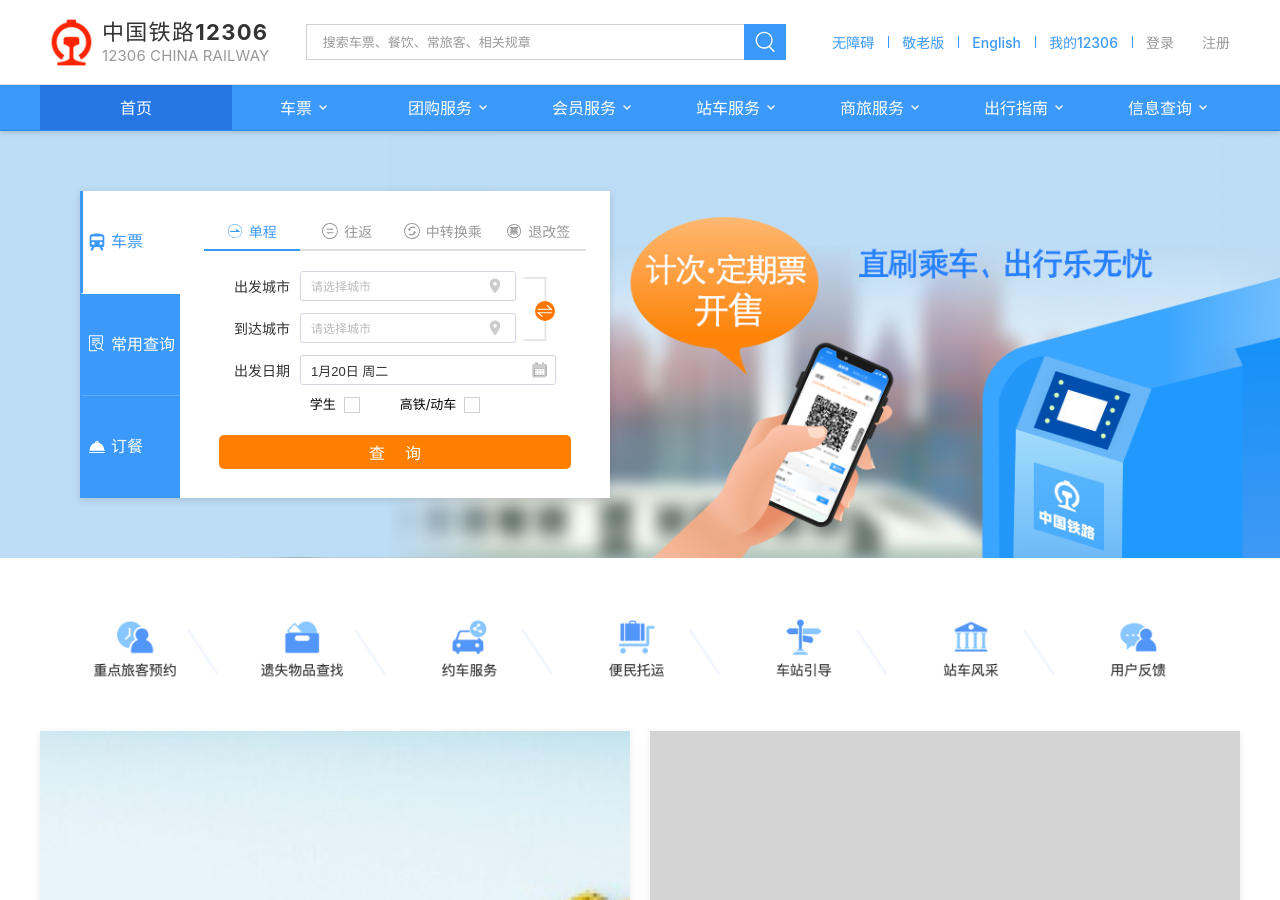
跨页流程：首页查询页导航 › 应该能从首页通过主导航栏的"注册"按钮导航到注册页
Click the button "注册" at [1216, 42], box x1=1192 y1=32 x2=1240 y2=52
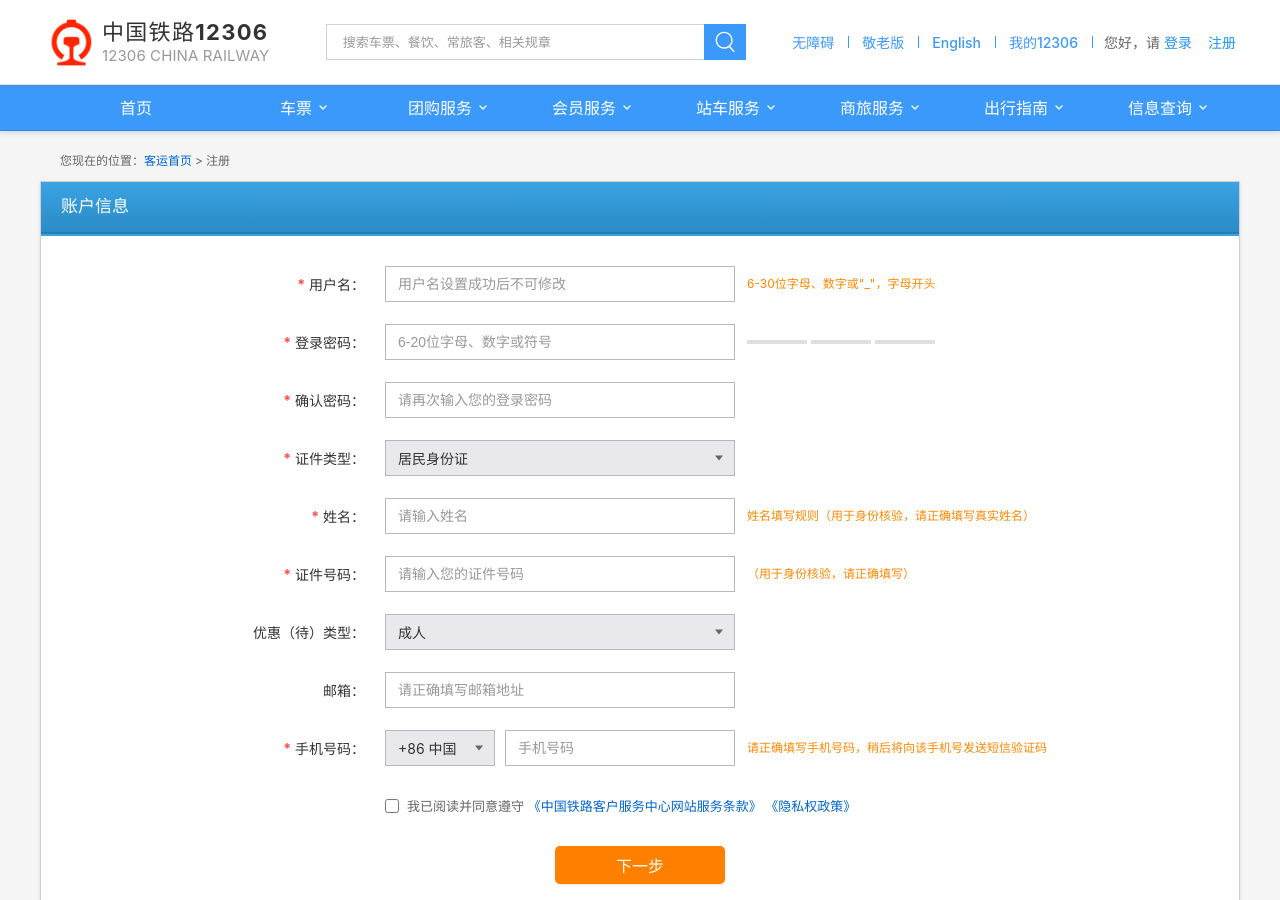
Check: the text "账户信息" is shown, box x1=41 y1=182 x2=1239 y2=234
Check: the field with placeholder "用户名设置成功后不可修改" is shown, box x1=385 y1=266 x2=735 y2=302
